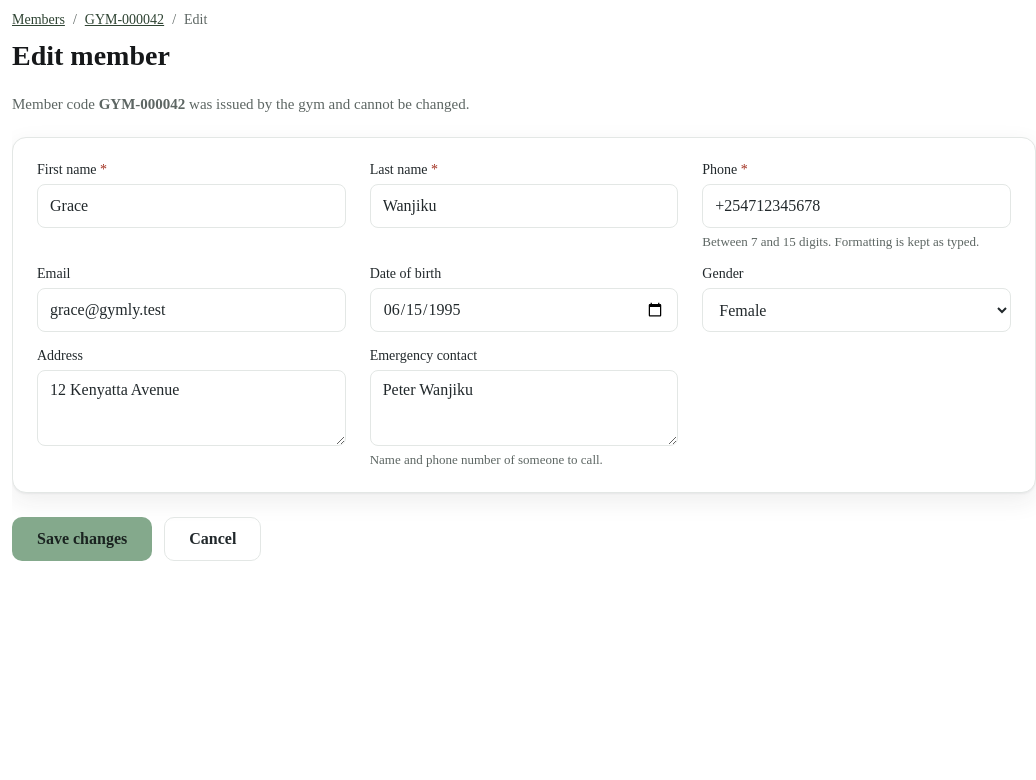
Test case: editing a member › shows the API message for any other rejected change
Expected: the field showing "Grace" is shown, [37,184,346,228]
Step 1. Type " x" into the text box labelled "Address" → (191, 408), box [37,370,346,446]
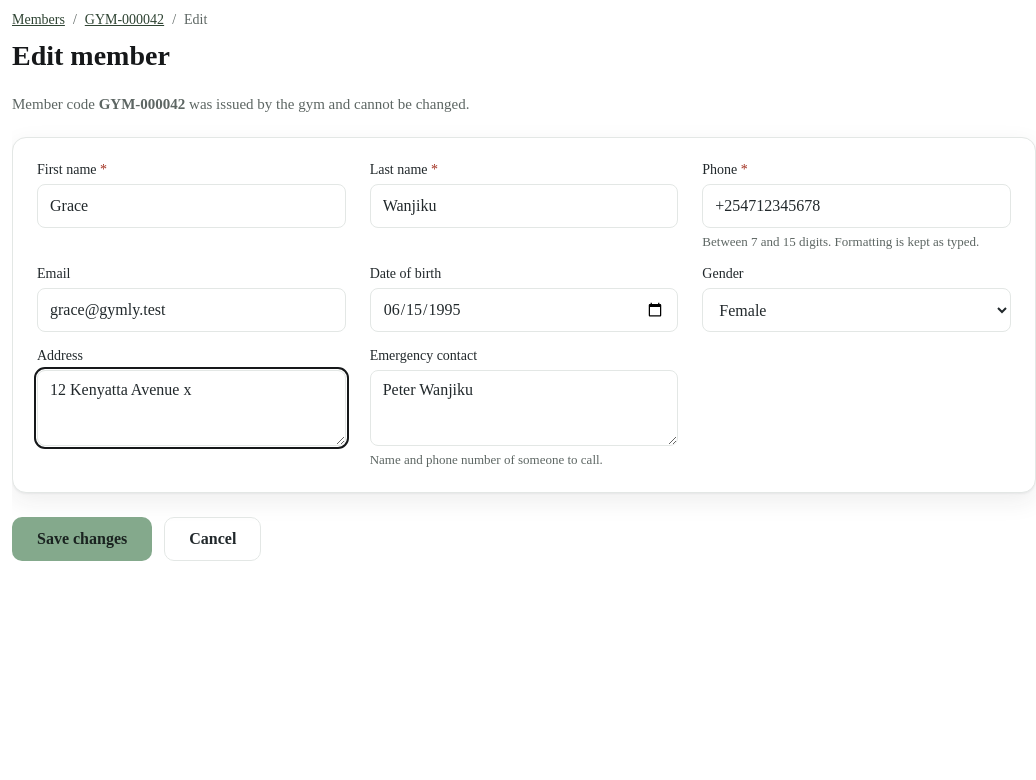
Step 2. Click the button "Save changes" → (82, 539), box [12,517,152,561]
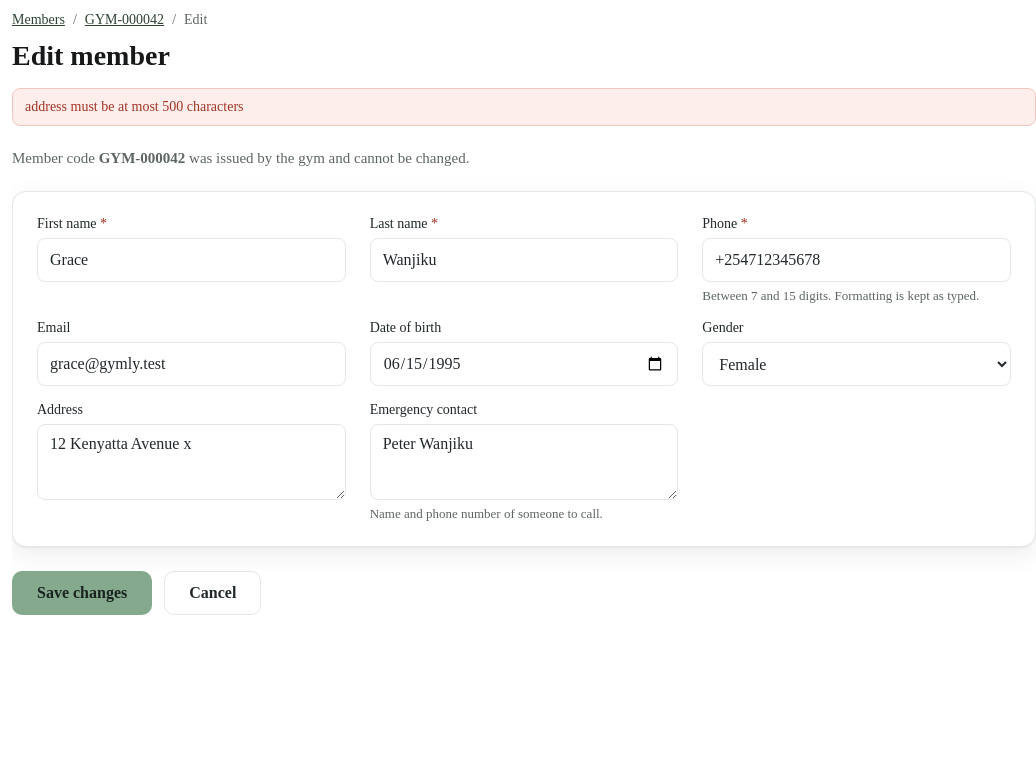
Expected: the text "address must be at most 500 characters" is shown, [12,88,1035,126]
